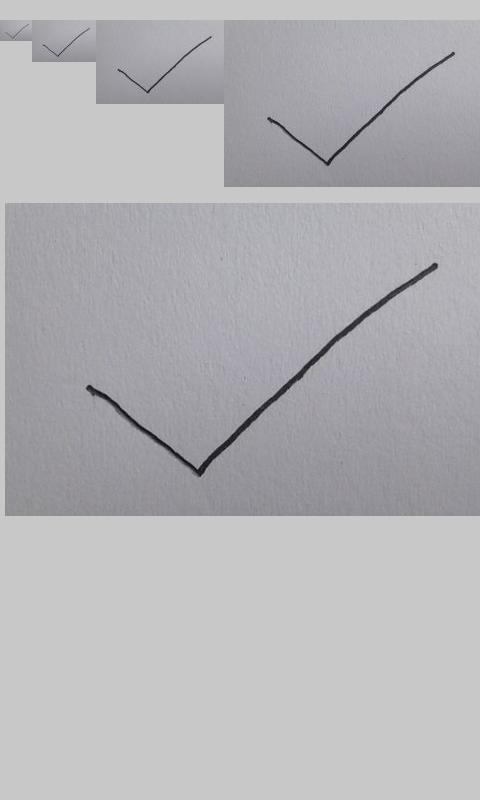check_box: (85, 262, 442, 478), (268, 52, 454, 167), (117, 36, 212, 94), (43, 28, 89, 57), (5, 24, 29, 40)
